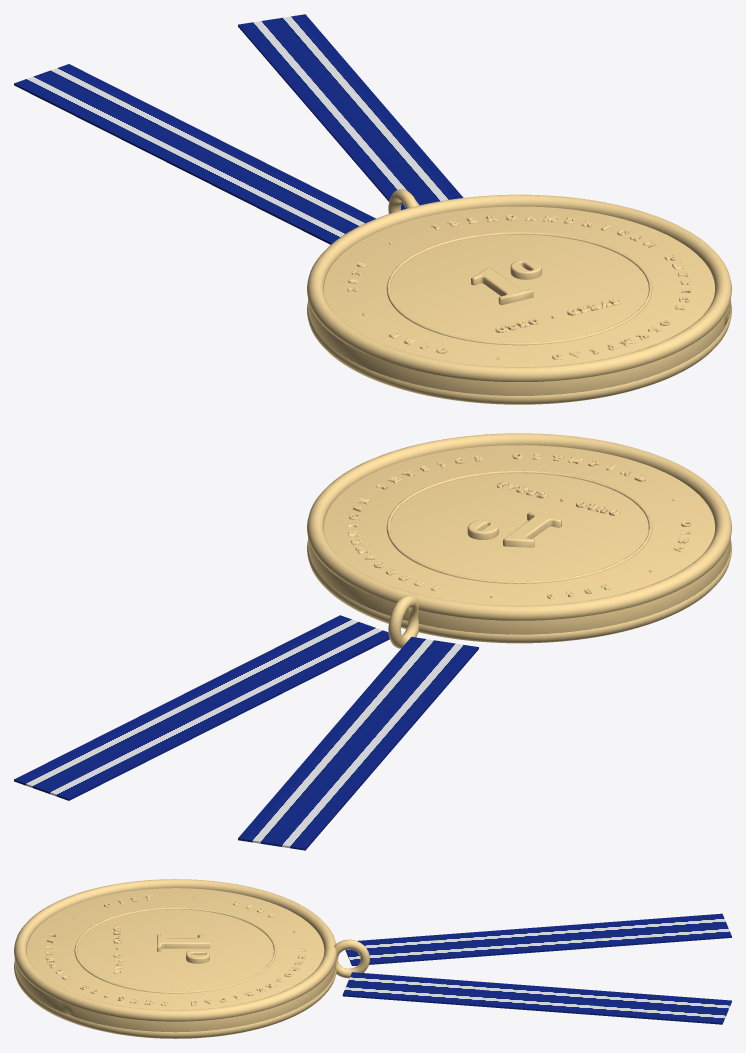
Rendered from medal-gold-pt.glb.
3 renders of one model, top to bottom at view 1: azimuth 30°, elevation 25°; view 2: azimuth 150°, elevation 25°; view 3: azimuth 270°, elevation 25°, orthographic. The views are drawn at different scales.
Visible parts, largest first — view 1: field, ribbon, relief; view 2: field, ribbon, relief; view 3: field, ribbon, relief.
Boxes of the visible parts, box(x1,y1,x2,y2) form: field: box(308, 206, 730, 395); ribbon: box(14, 14, 463, 244); relief: box(307, 189, 731, 404); field: box(308, 445, 730, 634); ribbon: box(14, 615, 478, 850); relief: box(307, 433, 731, 648); field: box(14, 888, 336, 1032); ribbon: box(342, 913, 731, 1024); relief: box(14, 879, 369, 1038).
Size of the model in its own units: 2.01 by 0.2598 by 4.47.
3 materials, 1 textured.
